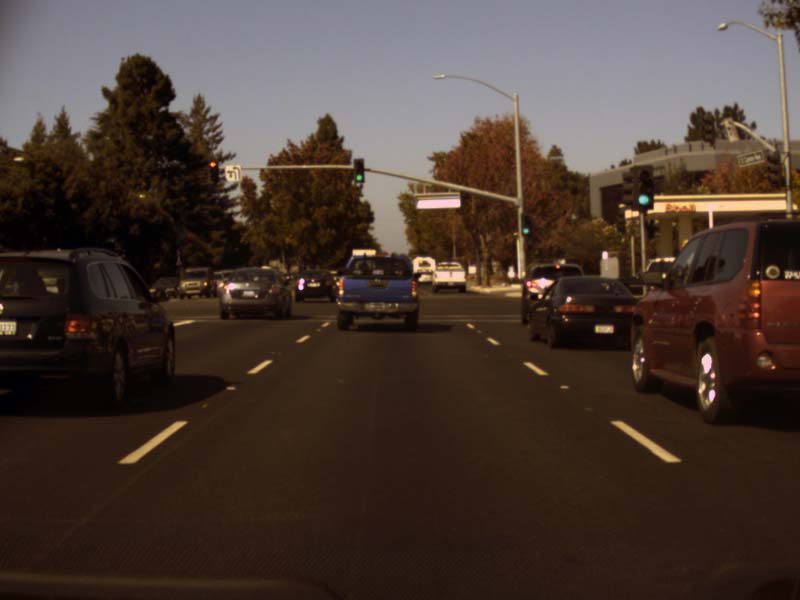Green: (632, 164, 652, 210), (353, 157, 364, 183), (521, 212, 531, 235)
Red: (208, 160, 218, 181)
